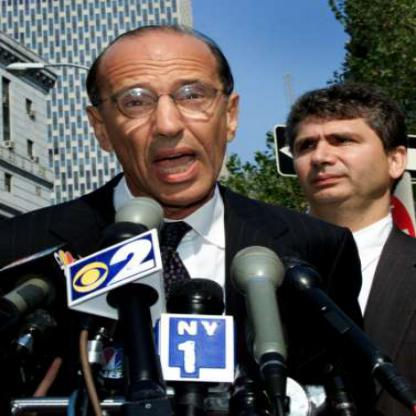face: (108, 26, 228, 206), (283, 92, 394, 209)
